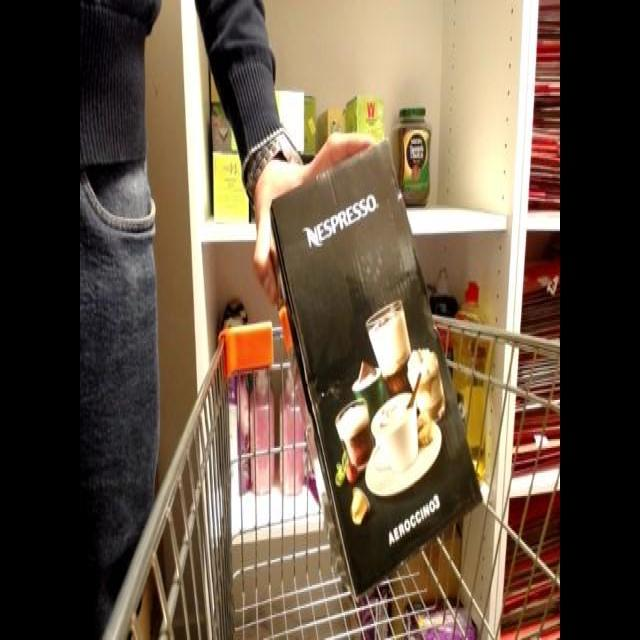Nespresso: (263, 121, 500, 603)
